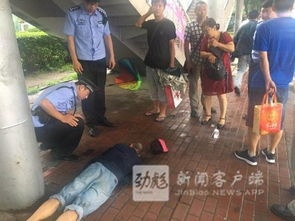falling: (0, 135, 169, 219)
